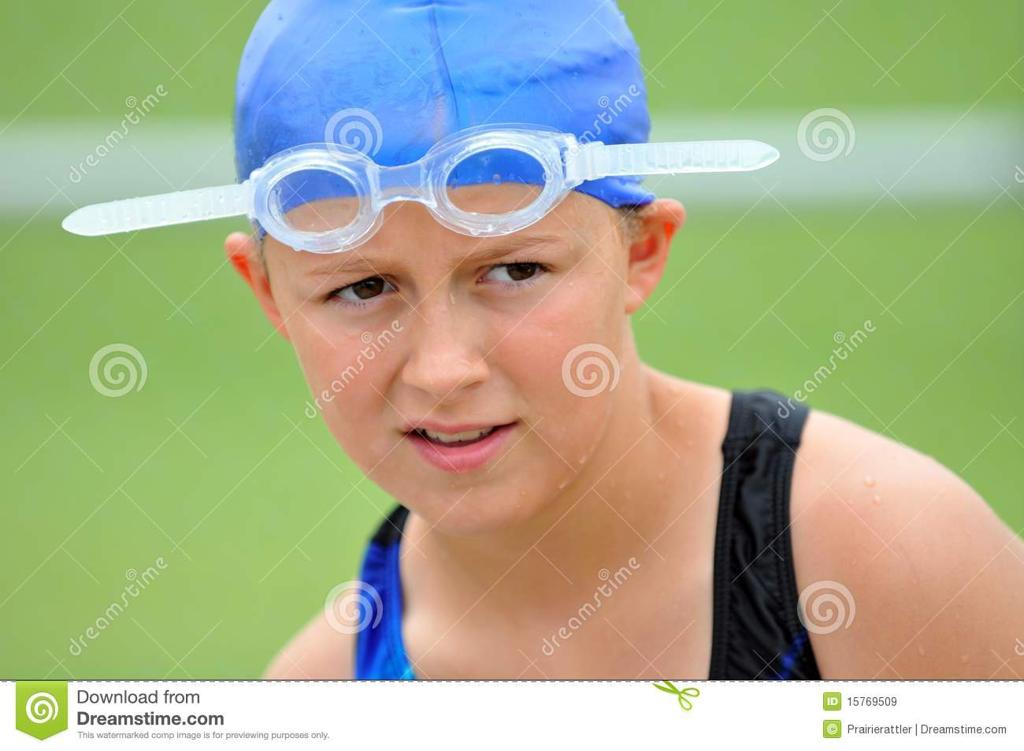face: (266, 126, 628, 524)
